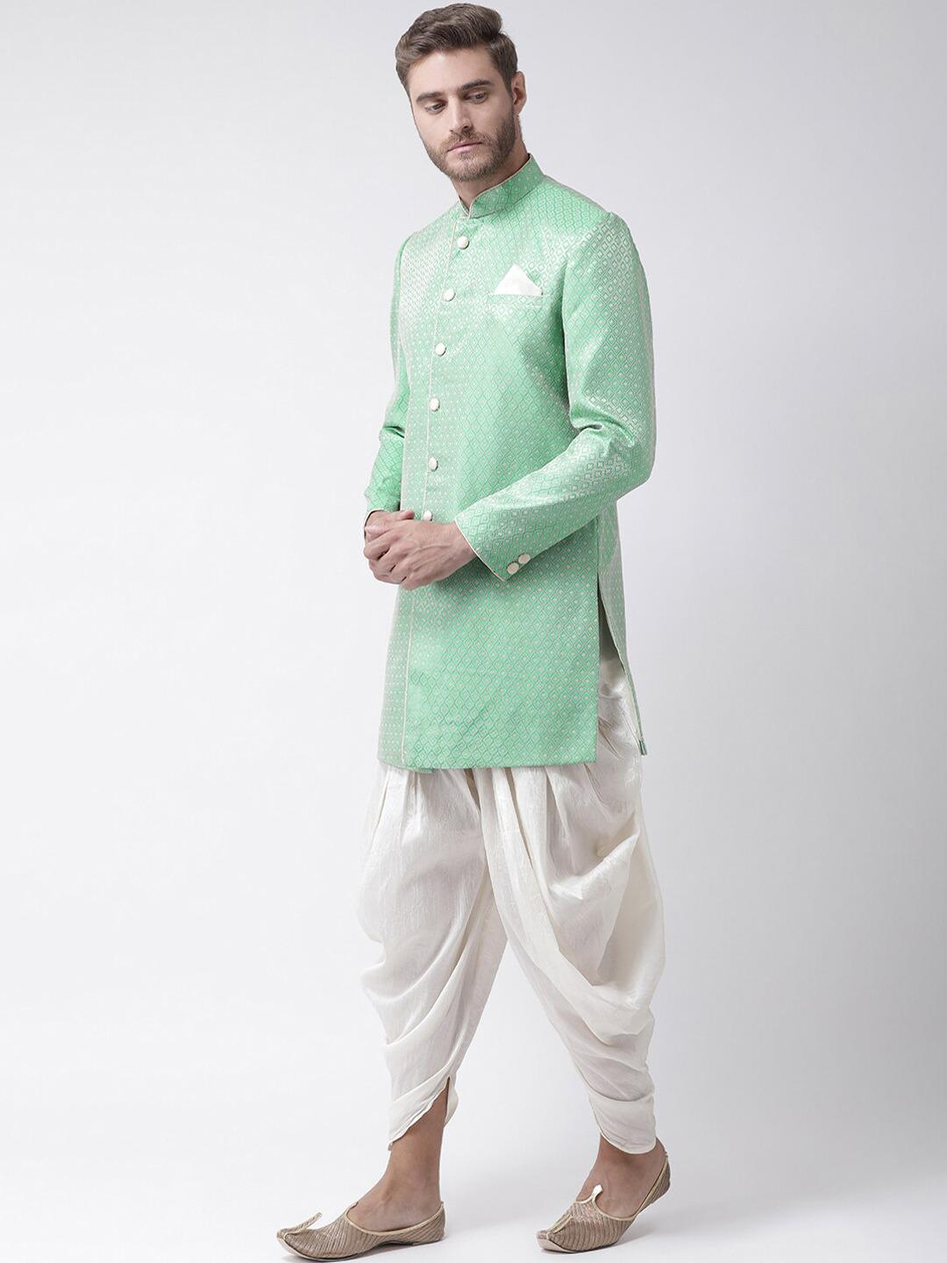Desgin sherwani: (362, 154, 653, 770)
